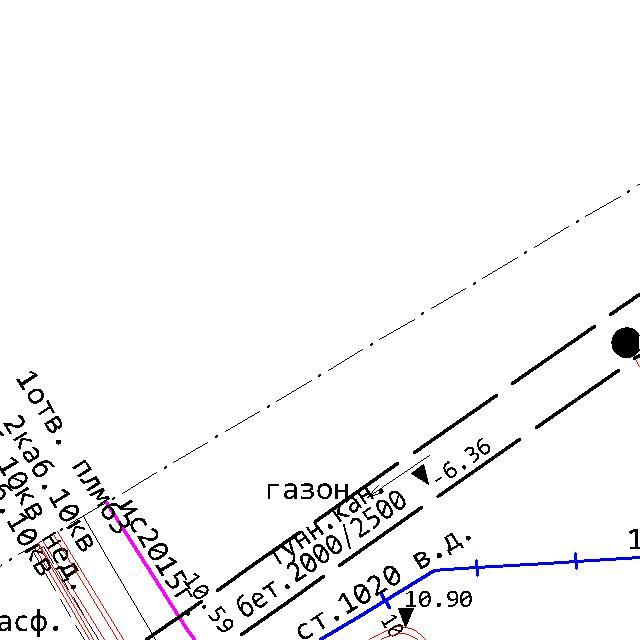mark: (410, 462, 430, 488), (396, 605, 416, 630)
